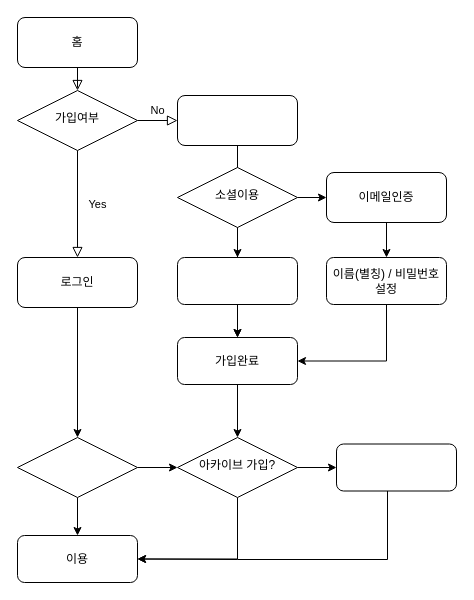
Some shapes in this 474 by 600 pixel diagram are drawn without their labels. The centre of each missing label's shape, as x and y in pixels:
"소셜 로그인 인증" goes at point 237,280.
"신청" goes at point 396,467.
"현위치=통합" goes at point 77,467.
"회원가입" goes at point 237,120.
